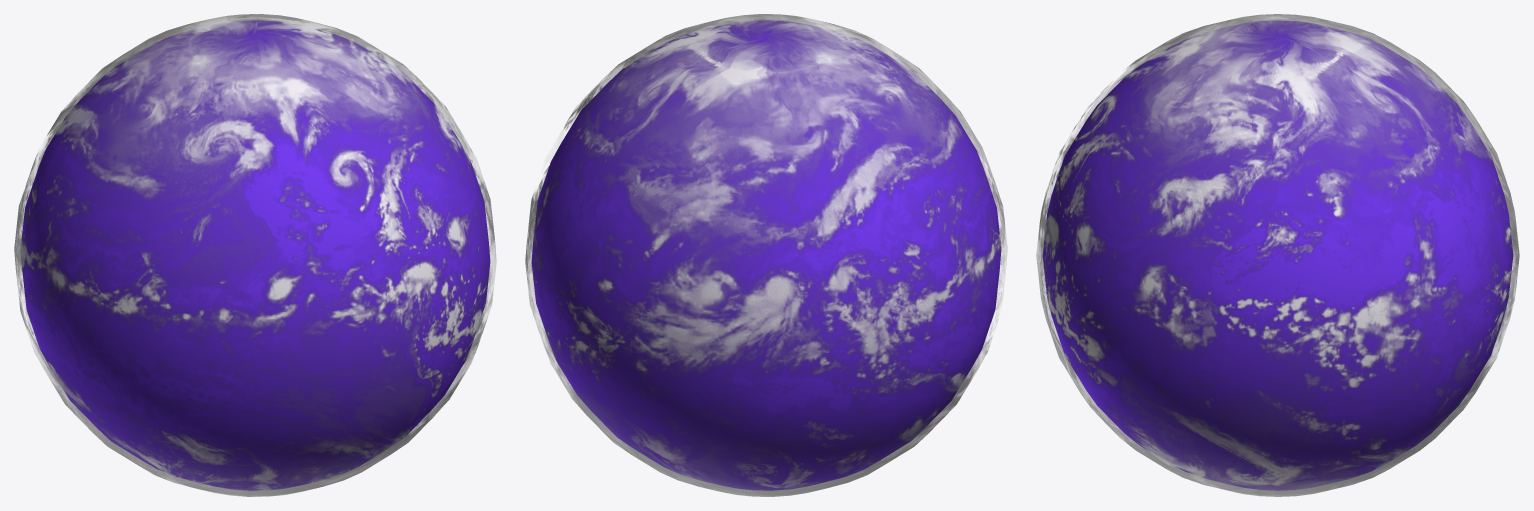
File: purple-planet.glb
3 views of the same model, side by side, from view 1: azimuth 30°, elevation 25°; view 2: azimuth 150°, elevation 25°; view 3: azimuth 270°, elevation 25° (orthographic).
Parts seen in each view (by area): view 1: planet, clouds; view 2: planet, clouds; view 3: planet, clouds.
Part boxes in pixels (x1,y1,x2,y2): planet: (21,20,490,490); clouds: (14,14,495,496); planet: (531,20,1001,490); clouds: (525,14,1006,496); planet: (1042,20,1513,490); clouds: (1036,14,1519,496).
Size of the model in its own units: 2.05 by 2.05 by 2.05.
Materials: 2 (1 with a texture image).
